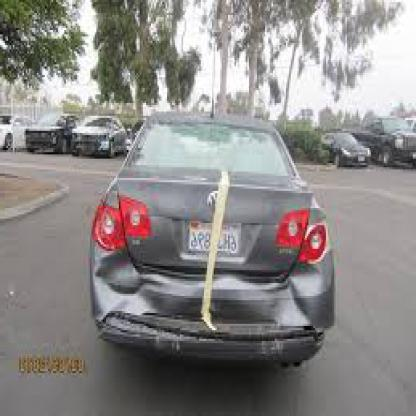dent: (96, 252, 148, 295), (285, 262, 325, 308)
